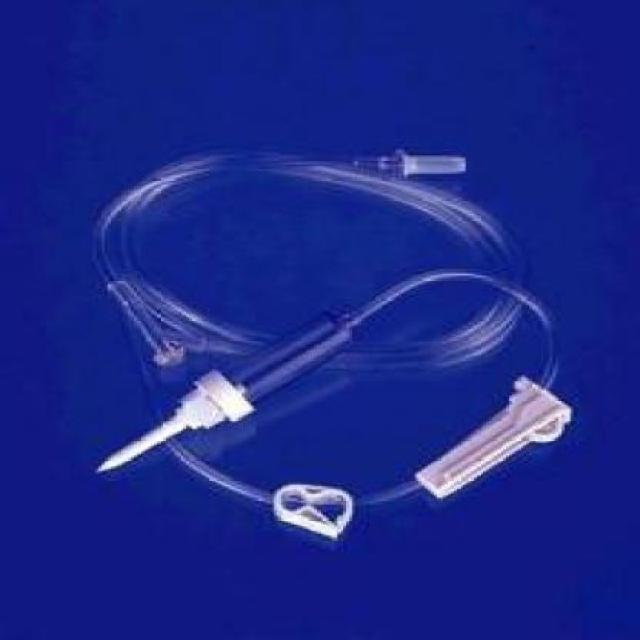B3: (93, 146, 576, 545)
